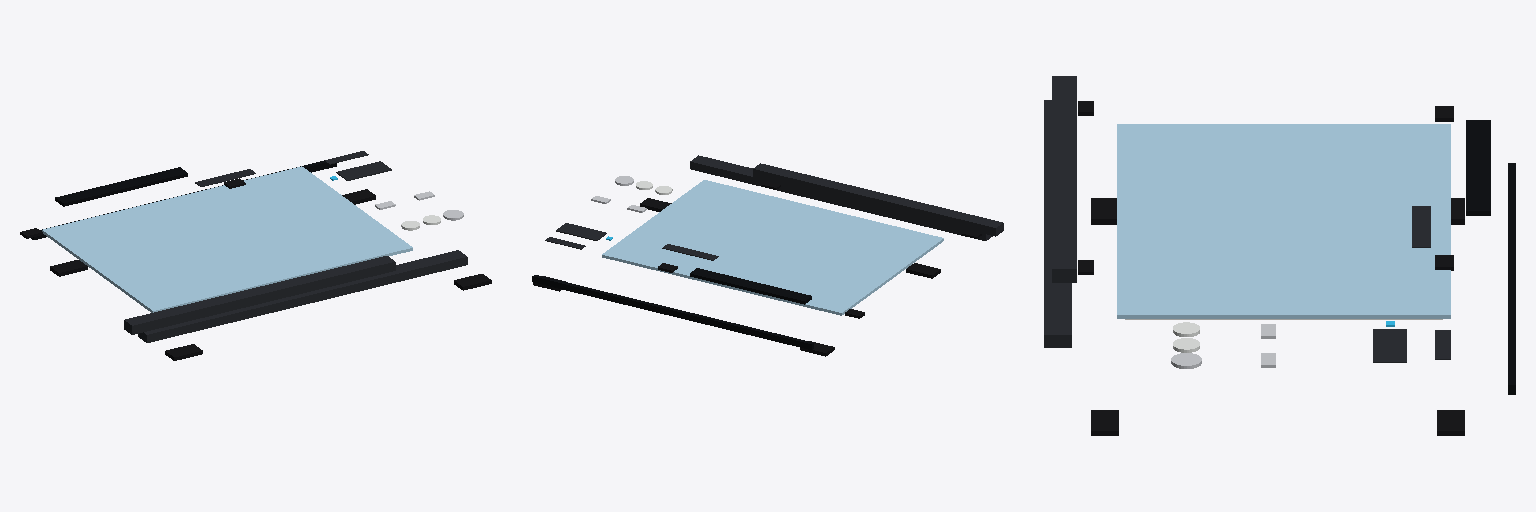
robot.urdf — flatbed_scanner:
<robot name="flatbed_scanner">
  <material name="silver_paint">
    <color rgba="0.82 0.83 0.85 1" />
    </material>
  <material name="cool_white">
    <color rgba="0.92 0.93 0.92 1" />
    </material>
  <material name="platen_white">
    <color rgba="0.96 0.96 0.94 1" />
    </material>
  <material name="charcoal_plastic">
    <color rgba="0.19 0.2 0.22 1" />
    </material>
  <material name="black_gloss">
    <color rgba="0.08 0.09 0.1 1" />
    </material>
  <material name="rubber">
    <color rgba="0.11 0.11 0.12 1" />
    </material>
  <material name="glass">
    <color rgba="0.7 0.84 0.92 0.32" />
    </material>
  <material name="status_blue">
    <color rgba="0.23 0.78 0.97 0.9" />
    </material>
  <link name="base">
    <inertial>
      <origin xyz="0 0 0.025" rpy="0 0 0" />
      <mass value="4.6" />
      <inertia ixx="0.0373229" ixy="0" ixz="0" iyy="0.0758479" iyz="0" izz="0.111254" />
      </inertial>
    <visual name="lower_shell">
      <geometry>
        <mesh filename="meshes/scanner_body_lower.obj" />
        </geometry>
      <material name="charcoal_plastic">
        <color rgba="0.19 0.2 0.22 1" />
        </material>
      </visual>
    <visual name="upper_shell">
      <origin xyz="0 0 0.014" rpy="0 0 0" />
      <geometry>
        <mesh filename="meshes/scanner_body_upper.obj" />
        </geometry>
      <material name="silver_paint">
        <color rgba="0.82 0.83 0.85 1" />
        </material>
      </visual>
    <visual name="scan_bed_bezel">
      <origin xyz="-0.046 0.004 0.046" rpy="0 0 0" />
      <geometry>
        <mesh filename="meshes/scanner_bed_bezel.obj" />
        </geometry>
      <material name="black_gloss">
        <color rgba="0.08 0.09 0.1 1" />
        </material>
      </visual>
    <visual name="scan_glass">
      <origin xyz="-0.046 0.004 0.0481" rpy="0 0 0" />
      <geometry>
        <box size="0.292 0.216 0.0032" />
        </geometry>
      <material name="glass">
        <color rgba="0.7 0.84 0.92 0.32" />
        </material>
      </visual>
    <visual name="scan_platen">
      <origin xyz="-0.046 0.004 0.0458" rpy="0 0 0" />
      <geometry>
        <box size="0.286 0.206 0.0028" />
        </geometry>
      <material name="platen_white">
        <color rgba="0.96 0.96 0.94 1" />
        </material>
      </visual>
    <visual name="calibration_strip">
      <origin xyz="-0.175 0.004 0.0462" rpy="0 0 0" />
      <geometry>
        <box size="0.01 0.19 0.001" />
        </geometry>
      <material name="platen_white">
        <color rgba="0.96 0.96 0.94 1" />
        </material>
      </visual>
    <visual name="control_panel">
      <origin xyz="0.147 0.004 0.0475" rpy="0 0 0" />
      <geometry>
        <mesh filename="meshes/scanner_control_panel.obj" />
        </geometry>
      <material name="black_gloss">
        <color rgba="0.08 0.09 0.1 1" />
        </material>
      </visual>
    <visual name="status_window">
      <origin xyz="0.147 0.073 0.0492" rpy="0 0 0" />
      <geometry>
        <box size="0.05 0.022 0.0012" />
        </geometry>
      <material name="charcoal_plastic">
        <color rgba="0.19 0.2 0.22 1" />
        </material>
      </visual>
    <visual name="power_button">
      <origin xyz="0.171 -0.059 0.0498" rpy="0 0 0" />
      <geometry>
        <cylinder radius="0.01" length="0.0024" />
        </geometry>
      <material name="silver_paint">
        <color rgba="0.82 0.83 0.85 1" />
        </material>
      </visual>
    <visual name="start_button">
      <origin xyz="0.123 -0.059 0.0498" rpy="0 0 0" />
      <geometry>
        <cylinder radius="0.009" length="0.0024" />
        </geometry>
      <material name="cool_white">
        <color rgba="0.92 0.93 0.92 1" />
        </material>
      </visual>
    <visual name="stop_button">
      <origin xyz="0.147 -0.059 0.0498" rpy="0 0 0" />
      <geometry>
        <cylinder radius="0.009" length="0.0024" />
        </geometry>
      <material name="cool_white">
        <color rgba="0.92 0.93 0.92 1" />
        </material>
      </visual>
    <visual name="mode_button_left">
      <origin xyz="0.125 -0.006 0.0494" rpy="0 0 0" />
      <geometry>
        <box size="0.018 0.01 0.002" />
        </geometry>
      <material name="silver_paint">
        <color rgba="0.82 0.83 0.85 1" />
        </material>
      </visual>
    <visual name="mode_button_right">
      <origin xyz="0.169 -0.006 0.0494" rpy="0 0 0" />
      <geometry>
        <box size="0.018 0.01 0.002" />
        </geometry>
      <material name="silver_paint">
        <color rgba="0.82 0.83 0.85 1" />
        </material>
      </visual>
    <visual name="status_led">
      <origin xyz="0.113 0.073 0.0495" rpy="0 0 0" />
      <geometry>
        <box size="0.006 0.006 0.0014" />
        </geometry>
      <material name="status_blue">
        <color rgba="0.23 0.78 0.97 0.9" />
        </material>
      </visual>
    <visual name="logo_plaque">
      <origin xyz="0.147 0.107 0.0499" rpy="0 0 0" />
      <geometry>
        <box size="0.044 0.01 0.0008" />
        </geometry>
      <material name="charcoal_plastic">
        <color rgba="0.19 0.2 0.22 1" />
        </material>
      </visual>
    <visual name="hinge_cover">
      <origin xyz="-0.046 -0.142 0.0465" rpy="0 0 0" />
      <geometry>
        <box size="0.36 0.018 0.009" />
        </geometry>
      <material name="charcoal_plastic">
        <color rgba="0.19 0.2 0.22 1" />
        </material>
      </visual>
    <visual name="front_fascia">
      <origin xyz="-0.01 0.1515 0.024" rpy="0 0 0" />
      <geometry>
        <box size="0.34 0.005 0.007" />
        </geometry>
      <material name="black_gloss">
        <color rgba="0.08 0.09 0.1 1" />
        </material>
      </visual>
    <visual name="foot_1">
      <origin xyz="-0.162 -0.112 0.0015" rpy="0 0 0" />
      <geometry>
        <box size="0.032 0.018 0.004" />
        </geometry>
      <material name="rubber">
        <color rgba="0.11 0.11 0.12 1" />
        </material>
      </visual>
    <visual name="foot_2">
      <origin xyz="-0.162 0.112 0.0015" rpy="0 0 0" />
      <geometry>
        <box size="0.032 0.018 0.004" />
        </geometry>
      <material name="rubber">
        <color rgba="0.11 0.11 0.12 1" />
        </material>
      </visual>
    <visual name="foot_3">
      <origin xyz="0.162 -0.112 0.0015" rpy="0 0 0" />
      <geometry>
        <box size="0.032 0.018 0.004" />
        </geometry>
      <material name="rubber">
        <color rgba="0.11 0.11 0.12 1" />
        </material>
      </visual>
    <visual name="foot_4">
      <origin xyz="0.162 0.112 0.0015" rpy="0 0 0" />
      <geometry>
        <box size="0.032 0.018 0.004" />
        </geometry>
      <material name="rubber">
        <color rgba="0.11 0.11 0.12 1" />
        </material>
      </visual>
    <collision name="base__lower_shell__hull_001">
      <geometry>
        <mesh filename="meshes/collision/cache/86ccf836ed3f9fd94deb8379__hull_001.obj" />
        </geometry>
      </collision>
    <collision name="base__upper_shell__hull_001">
      <origin xyz="0 0 0.014" rpy="0 0 0" />
      <geometry>
        <mesh filename="meshes/collision/cache/0311321d25c96b551db0d6a7__hull_001.obj" />
        </geometry>
      </collision>
    <collision name="base__scan_bed_bezel__hull_001">
      <origin xyz="-0.046 0.004 0.046" rpy="0 0 0" />
      <geometry>
        <mesh filename="meshes/collision/cache/9896f4955254bcef20b88e97__hull_001.obj" />
        </geometry>
      </collision>
    <collision name="base__scan_bed_bezel__hull_002">
      <origin xyz="-0.046 0.004 0.046" rpy="0 0 0" />
      <geometry>
        <mesh filename="meshes/collision/cache/9896f4955254bcef20b88e97__hull_002.obj" />
        </geometry>
      </collision>
    <collision name="base__scan_bed_bezel__hull_003">
      <origin xyz="-0.046 0.004 0.046" rpy="0 0 0" />
      <geometry>
        <mesh filename="meshes/collision/cache/9896f4955254bcef20b88e97__hull_003.obj" />
        </geometry>
      </collision>
    <collision name="base__scan_bed_bezel__hull_004">
      <origin xyz="-0.046 0.004 0.046" rpy="0 0 0" />
      <geometry>
        <mesh filename="meshes/collision/cache/9896f4955254bcef20b88e97__hull_004.obj" />
        </geometry>
      </collision>
    <collision name="base__scan_bed_bezel__hull_005">
      <origin xyz="-0.046 0.004 0.046" rpy="0 0 0" />
      <geometry>
        <mesh filename="meshes/collision/cache/9896f4955254bcef20b88e97__hull_005.obj" />
        </geometry>
      </collision>
    <collision name="base__scan_bed_bezel__hull_006">
      <origin xyz="-0.046 0.004 0.046" rpy="0 0 0" />
      <geometry>
        <mesh filename="meshes/collision/cache/9896f4955254bcef20b88e97__hull_006.obj" />
        </geometry>
      </collision>
    <collision name="base__scan_glass">
      <origin xyz="-0.046 0.004 0.0481" rpy="0 0 0" />
      <geometry>
        <box size="0.292 0.216 0.0032" />
        </geometry>
      </collision>
    <collision name="base__scan_platen">
      <origin xyz="-0.046 0.004 0.0458" rpy="0 0 0" />
      <geometry>
        <box size="0.286 0.206 0.0028" />
        </geometry>
      </collision>
    <collision name="base__calibration_strip">
      <origin xyz="-0.175 0.004 0.0462" rpy="0 0 0" />
      <geometry>
        <box size="0.01 0.19 0.001" />
        </geometry>
      </collision>
    <collision name="base__control_panel__hull_001">
      <origin xyz="0.147 0.004 0.0475" rpy="0 0 0" />
      <geometry>
        <mesh filename="meshes/collision/cache/5ce1ff94dc8c6f21e9b8a463__hull_001.obj" />
        </geometry>
      </collision>
    <collision name="base__status_window">
      <origin xyz="0.147 0.073 0.0492" rpy="0 0 0" />
      <geometry>
        <box size="0.05 0.022 0.0012" />
        </geometry>
      </collision>
    <collision name="base__power_button">
      <origin xyz="0.171 -0.059 0.0498" rpy="0 0 0" />
      <geometry>
        <cylinder radius="0.01" length="0.0024" />
        </geometry>
      </collision>
    <collision name="base__start_button">
      <origin xyz="0.123 -0.059 0.0498" rpy="0 0 0" />
      <geometry>
        <cylinder radius="0.009" length="0.0024" />
        </geometry>
      </collision>
    <collision name="base__stop_button">
      <origin xyz="0.147 -0.059 0.0498" rpy="0 0 0" />
      <geometry>
        <cylinder radius="0.009" length="0.0024" />
        </geometry>
      </collision>
    <collision name="base__mode_button_left">
      <origin xyz="0.125 -0.006 0.0494" rpy="0 0 0" />
      <geometry>
        <box size="0.018 0.01 0.002" />
        </geometry>
      </collision>
    <collision name="base__mode_button_right">
      <origin xyz="0.169 -0.006 0.0494" rpy="0 0 0" />
      <geometry>
        <box size="0.018 0.01 0.002" />
        </geometry>
      </collision>
    <collision name="base__status_led">
      <origin xyz="0.113 0.073 0.0495" rpy="0 0 0" />
      <geometry>
        <box size="0.006 0.006 0.0014" />
        </geometry>
      </collision>
    <collision name="base__logo_plaque">
      <origin xyz="0.147 0.107 0.0499" rpy="0 0 0" />
      <geometry>
        <box size="0.044 0.01 0.0008" />
        </geometry>
      </collision>
    <collision name="base__hinge_cover">
      <origin xyz="-0.046 -0.142 0.0465" rpy="0 0 0" />
      <geometry>
        <box size="0.36 0.018 0.009" />
        </geometry>
      </collision>
    <collision name="base__front_fascia">
      <origin xyz="-0.01 0.1515 0.024" rpy="0 0 0" />
      <geometry>
        <box size="0.34 0.005 0.007" />
        </geometry>
      </collision>
    <collision name="base__foot_1">
      <origin xyz="-0.162 -0.112 0.0015" rpy="0 0 0" />
      <geometry>
        <box size="0.032 0.018 0.004" />
        </geometry>
      </collision>
    <collision name="base__foot_2">
      <origin xyz="-0.162 0.112 0.0015" rpy="0 0 0" />
      <geometry>
        <box size="0.032 0.018 0.004" />
        </geometry>
      </collision>
    <collision name="base__foot_3">
      <origin xyz="0.162 -0.112 0.0015" rpy="0 0 0" />
      <geometry>
        <box size="0.032 0.018 0.004" />
        </geometry>
      </collision>
    <collision name="base__foot_4">
      <origin xyz="0.162 0.112 0.0015" rpy="0 0 0" />
      <geometry>
        <box size="0.032 0.018 0.004" />
        </geometry>
      </collision>
    </link>
  <link name="lid">
    <inertial>
      <origin xyz="-0.046 0.1375 0.0065" rpy="0 0 0" />
      <mass value="1.2" />
      <inertia ixx="0.0084906" ixy="0" ixz="0" iyy="0.0113121" iyz="0" izz="0.0197577" />
      </inertial>
    <visual name="lid_shell">
      <origin xyz="-0.046 0.1375 -0.001" rpy="0 0 0" />
      <geometry>
        <mesh filename="meshes/scanner_lid_shell.obj" />
        </geometry>
      <material name="cool_white">
        <color rgba="0.92 0.93 0.92 1" />
        </material>
      </visual>
    <visual name="lid_backing">
      <origin xyz="-0.046 0.126 -0.0004" rpy="0 0 0" />
      <geometry>
        <mesh filename="meshes/scanner_lid_backing.obj" />
        </geometry>
      <material name="platen_white">
        <color rgba="0.96 0.96 0.94 1" />
        </material>
      </visual>
    <visual name="lid_hinge_trim">
      <origin xyz="-0.046 0.004 0.005" rpy="0 0 0" />
      <geometry>
        <box size="0.29568 0.016 0.01" />
        </geometry>
      <material name="charcoal_plastic">
        <color rgba="0.19 0.2 0.22 1" />
        </material>
      </visual>
    <visual name="lid_pull_grip">
      <origin xyz="-0.046 0.272 0.013" rpy="0 0 0" />
      <geometry>
        <box size="0.14 0.016 0.0036" />
        </geometry>
      <material name="black_gloss">
        <color rgba="0.08 0.09 0.1 1" />
        </material>
      </visual>
    <visual name="lid_badge">
      <origin xyz="0.049 0.235 0.0153" rpy="0 0 0" />
      <geometry>
        <box size="0.062 0.012 0.0009" />
        </geometry>
      <material name="charcoal_plastic">
        <color rgba="0.19 0.2 0.22 1" />
        </material>
      </visual>
    <visual name="lid_front_bumper_1">
      <origin xyz="-0.16 0.25 -0.0014" rpy="0 0 0" />
      <geometry>
        <box size="0.018 0.012 0.003" />
        </geometry>
      <material name="rubber">
        <color rgba="0.11 0.11 0.12 1" />
        </material>
      </visual>
    <visual name="lid_front_bumper_2">
      <origin xyz="0.068 0.25 -0.0014" rpy="0 0 0" />
      <geometry>
        <box size="0.018 0.012 0.003" />
        </geometry>
      <material name="rubber">
        <color rgba="0.11 0.11 0.12 1" />
        </material>
      </visual>
    <visual name="lid_rear_bumper_1">
      <origin xyz="-0.168 0.018 -0.0011" rpy="0 0 0" />
      <geometry>
        <box size="0.018 0.01 0.0024" />
        </geometry>
      <material name="rubber">
        <color rgba="0.11 0.11 0.12 1" />
        </material>
      </visual>
    <visual name="lid_rear_bumper_2">
      <origin xyz="0.076 0.018 -0.0011" rpy="0 0 0" />
      <geometry>
        <box size="0.018 0.01 0.0024" />
        </geometry>
      <material name="rubber">
        <color rgba="0.11 0.11 0.12 1" />
        </material>
      </visual>
    <collision name="lid__lid_shell__hull_001">
      <origin xyz="-0.046 0.1375 -0.001" rpy="0 0 0" />
      <geometry>
        <mesh filename="meshes/collision/cache/0cd9a71a8eef1d787b3e12dc__hull_001.obj" />
        </geometry>
      </collision>
    <collision name="lid__lid_backing__hull_001">
      <origin xyz="-0.046 0.126 -0.0004" rpy="0 0 0" />
      <geometry>
        <mesh filename="meshes/collision/cache/65ba3409d9b4b9ecc0cade02__hull_001.obj" />
        </geometry>
      </collision>
    <collision name="lid__lid_hinge_trim">
      <origin xyz="-0.046 0.004 0.005" rpy="0 0 0" />
      <geometry>
        <box size="0.29568 0.016 0.01" />
        </geometry>
      </collision>
    <collision name="lid__lid_pull_grip">
      <origin xyz="-0.046 0.272 0.013" rpy="0 0 0" />
      <geometry>
        <box size="0.14 0.016 0.0036" />
        </geometry>
      </collision>
    <collision name="lid__lid_badge">
      <origin xyz="0.049 0.235 0.0153" rpy="0 0 0" />
      <geometry>
        <box size="0.062 0.012 0.0009" />
        </geometry>
      </collision>
    <collision name="lid__lid_front_bumper_1">
      <origin xyz="-0.16 0.25 -0.0014" rpy="0 0 0" />
      <geometry>
        <box size="0.018 0.012 0.003" />
        </geometry>
      </collision>
    <collision name="lid__lid_front_bumper_2">
      <origin xyz="0.068 0.25 -0.0014" rpy="0 0 0" />
      <geometry>
        <box size="0.018 0.012 0.003" />
        </geometry>
      </collision>
    <collision name="lid__lid_rear_bumper_1">
      <origin xyz="-0.168 0.018 -0.0011" rpy="0 0 0" />
      <geometry>
        <box size="0.018 0.01 0.0024" />
        </geometry>
      </collision>
    <collision name="lid__lid_rear_bumper_2">
      <origin xyz="0.076 0.018 -0.0011" rpy="0 0 0" />
      <geometry>
        <box size="0.018 0.01 0.0024" />
        </geometry>
      </collision>
    </link>
  <joint name="lid_hinge" type="revolute">
    <origin xyz="-0.046 -0.142 0.052" rpy="0 0 0" />
    <parent link="base" />
    <child link="lid" />
    <axis xyz="1 0 0" />
    <limit effort="16" velocity="1.5" lower="0" upper="1.16937" />
    </joint>
  </robot>

--- Render facts (derived) ---
3 views of the same robot in one strip: view 1: azimuth 30°, elevation 25°; view 2: azimuth 150°, elevation 25°; view 3: azimuth 270°, elevation 25° (orthographic).
Model flatbed_scanner with 2 links and 1 joints (1 revolute), rooted at base, posed all joints at 0.
Visible links, largest first — view 1: base, lid; view 2: base, lid; view 3: base, lid.
Boxes of the visible links, <box> form: base: <box>31,151,491,360</box>; lid: <box>20,167,395,334</box>; base: <box>532,155,992,356</box>; lid: <box>658,163,1003,318</box>; base: <box>1044,100,1515,435</box>; lid: <box>1052,76,1490,282</box>.
Bounding box of the posed robot: 0.4208 × 0.305 × 0.0683 m (x, y, z).
0 mesh visuals loaded from 6 distinct referenced files (none loaded); not drawn: 6 (reference not matched to a file when rendering).
